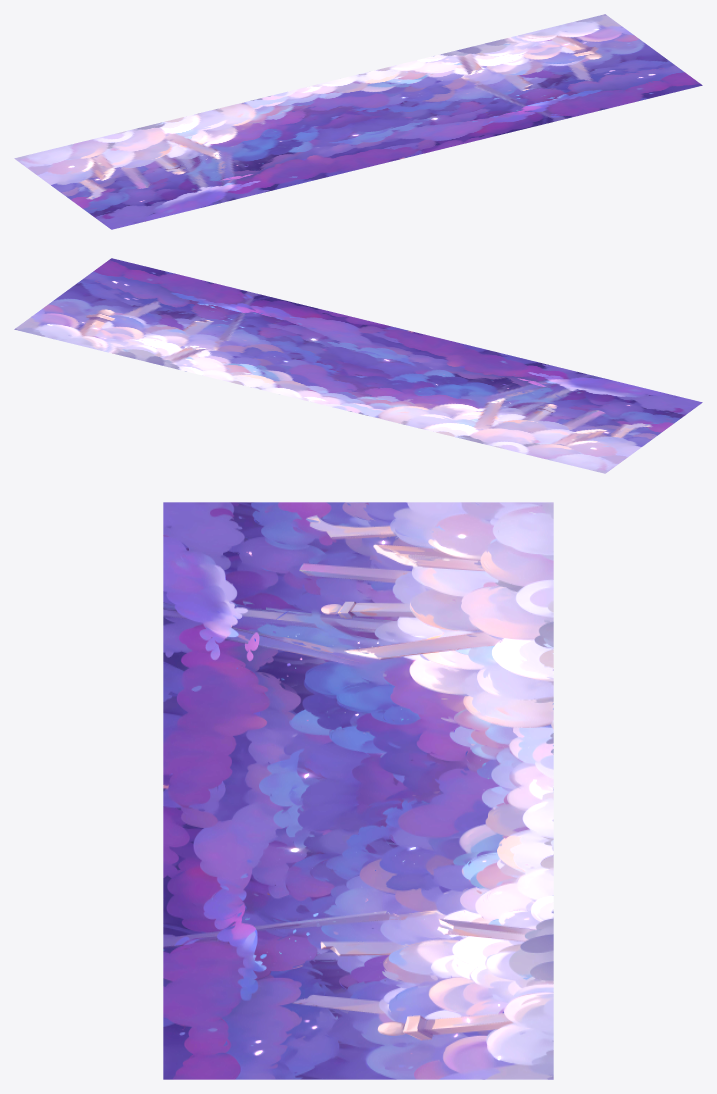
File: realm_bg.glb
The picture shows the model from 3 angles, top to bottom: view 1: azimuth 30°, elevation 25°; view 2: azimuth 150°, elevation 25°; view 3: azimuth 270°, elevation 25°; orthographic projection. The views are drawn at different scales.
Parts seen in each view (by area): view 1: 01; view 2: 01; view 3: 01.
Part boxes in pixels (x1,y1,x2,y2): 01: (14, 14, 702, 229); 01: (14, 258, 702, 473); 01: (163, 502, 553, 1079).
Bounding box in the file's own units: 70 × 0 × 20.
Materials: 16 (16 with a texture image).
